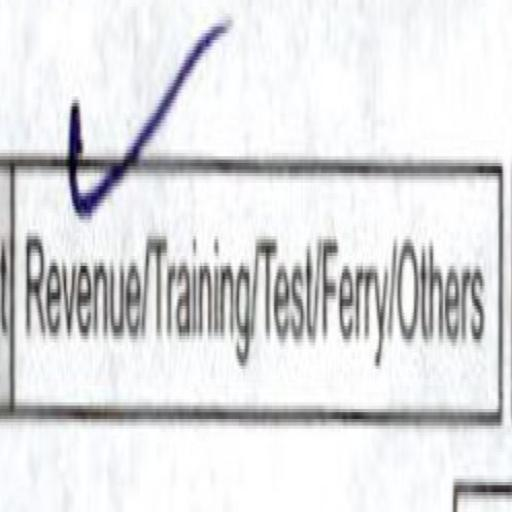check: (13, 32, 146, 446)
